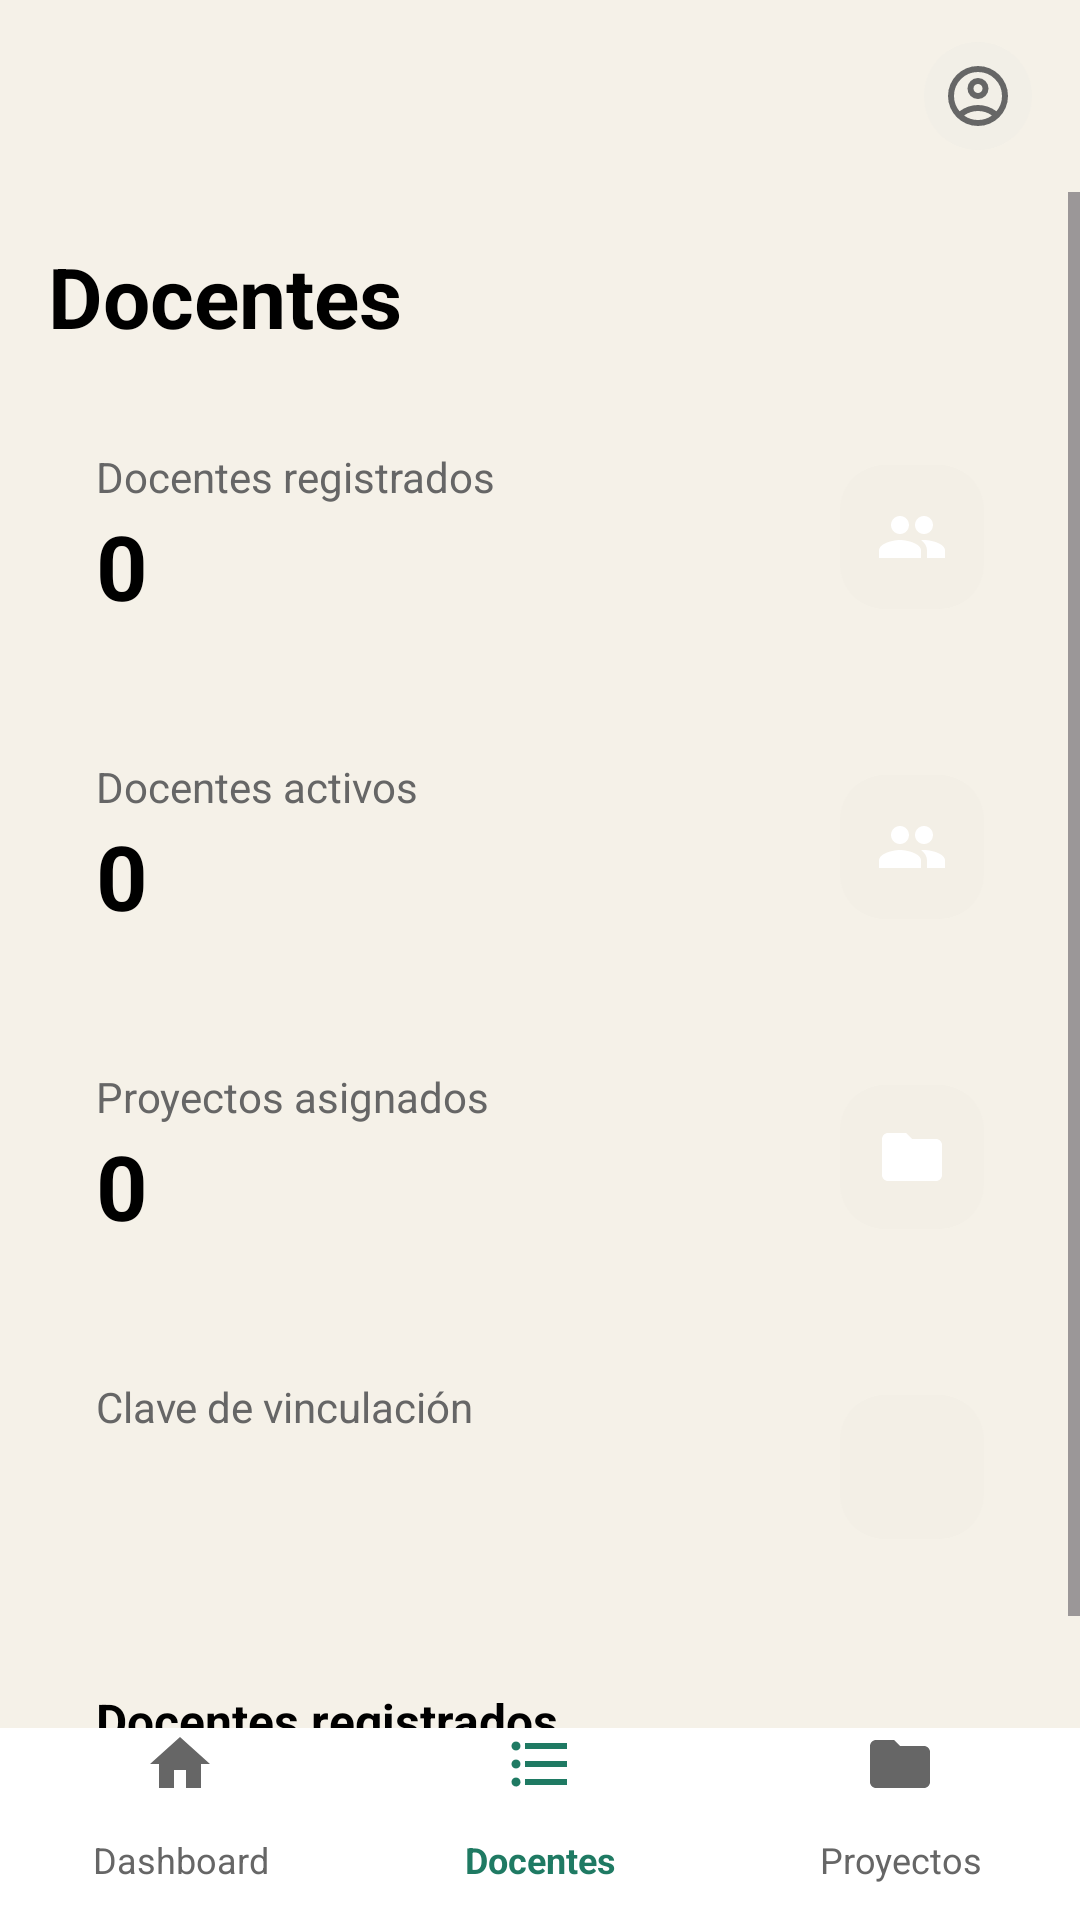

Screen size 1080x1920. Icon name, then its center in pixels as (x=x, y=y):
Perfil: (x=978, y=96)
